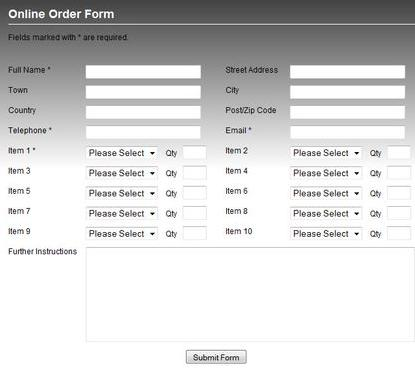button: (185, 349, 248, 364)
field: (83, 83, 202, 100), (288, 124, 407, 141), (83, 64, 203, 80), (288, 104, 407, 120), (84, 124, 203, 140), (84, 104, 202, 120), (289, 84, 406, 100), (289, 64, 406, 79), (84, 145, 160, 162), (84, 164, 160, 181), (288, 225, 364, 242), (288, 205, 364, 222), (288, 184, 364, 201), (288, 163, 364, 180), (288, 143, 364, 160), (83, 224, 159, 241), (84, 205, 160, 222), (84, 184, 160, 201), (181, 224, 210, 241), (385, 185, 413, 202), (385, 205, 413, 222), (385, 224, 413, 241), (182, 184, 209, 201), (182, 144, 208, 161), (182, 164, 208, 181), (182, 205, 208, 222), (386, 144, 412, 160), (387, 164, 412, 180)
field_with_label: (7, 62, 205, 81), (7, 123, 205, 142), (6, 102, 204, 121), (6, 82, 204, 101), (225, 102, 410, 121), (225, 82, 409, 101), (225, 123, 410, 141), (7, 203, 162, 223), (225, 62, 407, 79), (224, 223, 365, 244), (7, 144, 161, 163), (8, 163, 161, 182), (9, 183, 162, 202), (8, 223, 161, 242), (225, 182, 366, 202), (225, 203, 365, 223), (225, 162, 366, 181), (226, 142, 365, 161), (165, 181, 211, 202), (165, 202, 210, 223), (163, 162, 210, 181), (165, 223, 211, 242), (370, 204, 415, 223), (165, 143, 209, 162), (370, 184, 414, 203), (371, 163, 413, 182), (370, 143, 414, 161)
